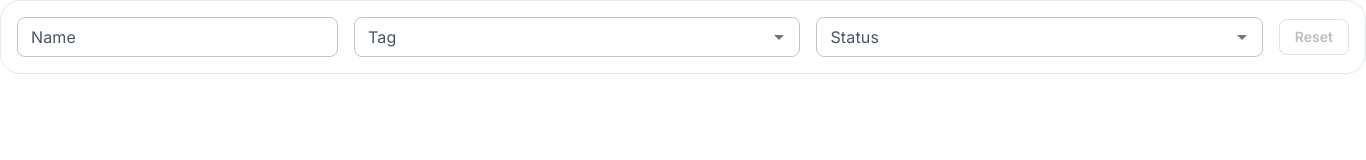
Test: TestRunFilters name search › shows the new value when the name is reset from outside
In the field with test id "testRunNameFilter": (178, 37) [17,17,338,57], type "abc"
Then press Enter
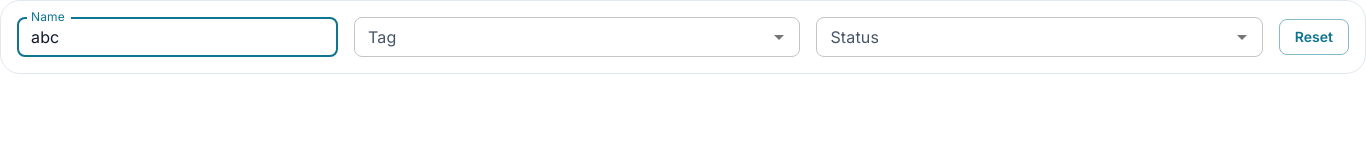
Click the button "Reset": click(1314, 37) [1279,19,1349,55]
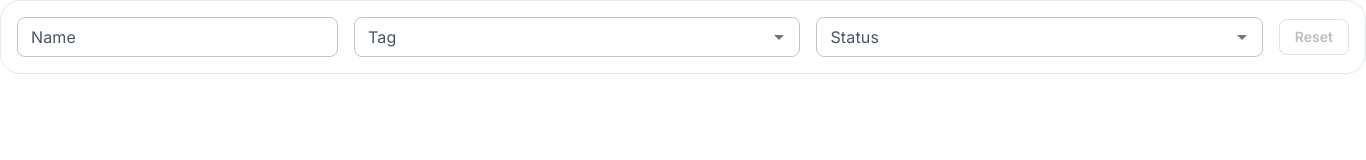
Result: the field with test id "testRunNameFilter" is empty at [17,17,338,57]
Result: the button "Reset" is disabled at [1279,19,1349,55]
